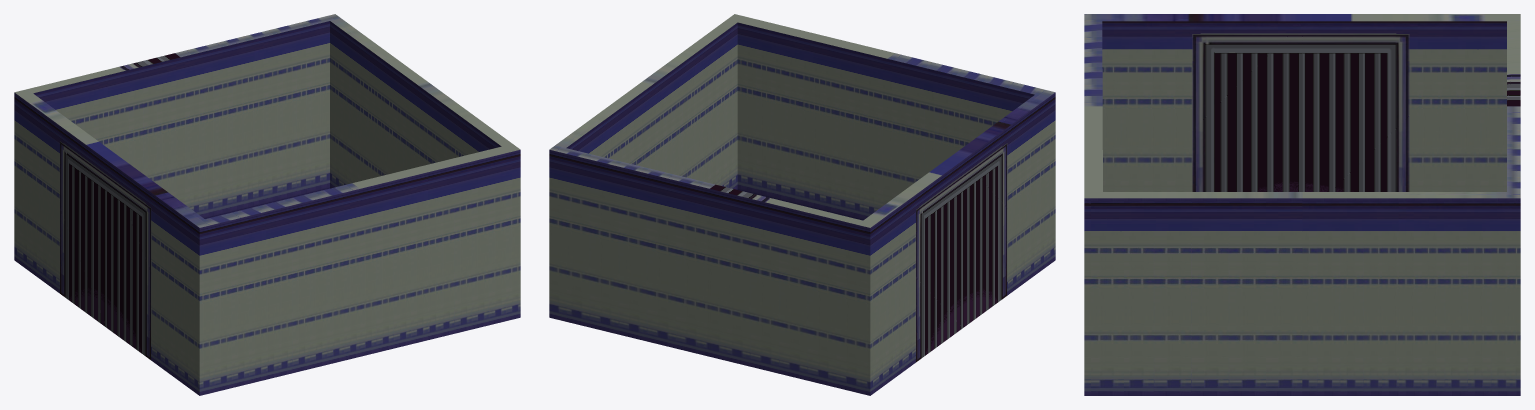
File: OpieceInside.fbx
3 views of the same model, side by side, from view 1: azimuth 30°, elevation 25°; view 2: azimuth 150°, elevation 25°; view 3: azimuth 270°, elevation 25° (orthographic). The views are drawn at different scales.
Parts seen in each view (by area): view 1: RPiece.002; view 2: RPiece.002; view 3: RPiece.002.
Boxes of the visible parts, x1,y1,x2,y2 form: RPiece.002: [14, 14, 520, 395]; RPiece.002: [549, 14, 1055, 395]; RPiece.002: [1084, 14, 1520, 395].
Size of the model in its own units: 400 by 200 by 400.
